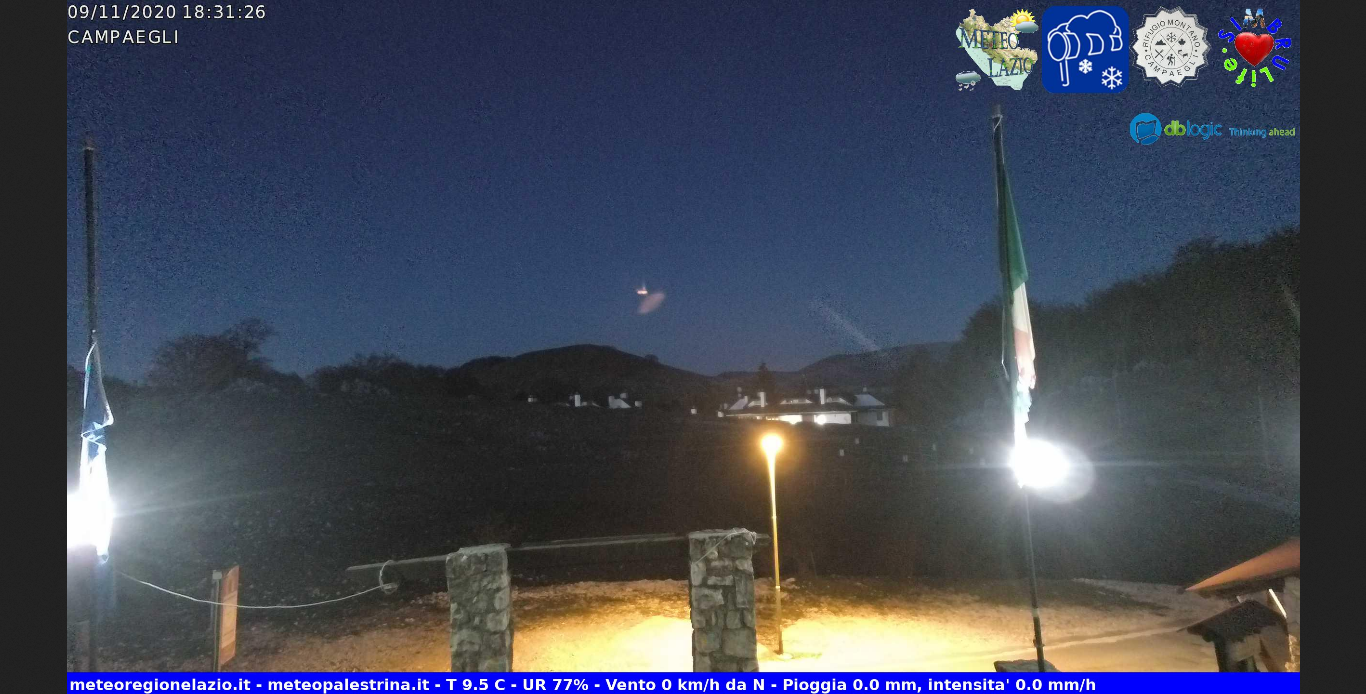no: (982, 96, 1056, 470)
